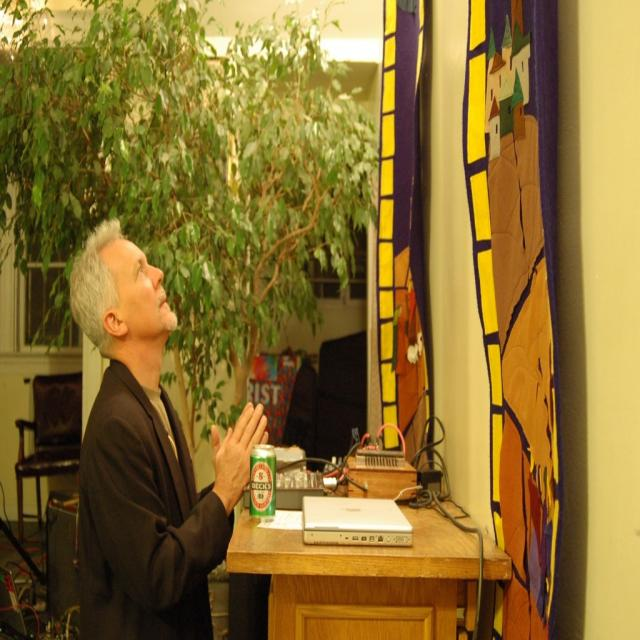chair: (14, 371, 82, 559)
desk: (216, 464, 513, 640)
person: (68, 218, 264, 634)
